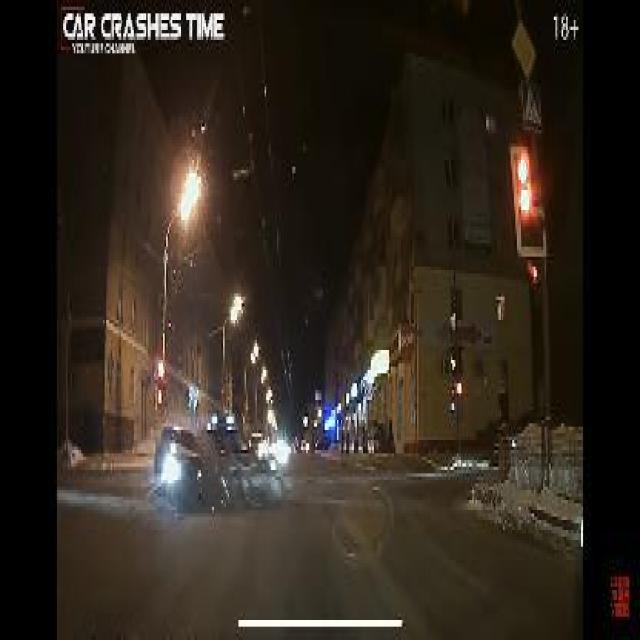accident: (150, 413, 278, 507)
